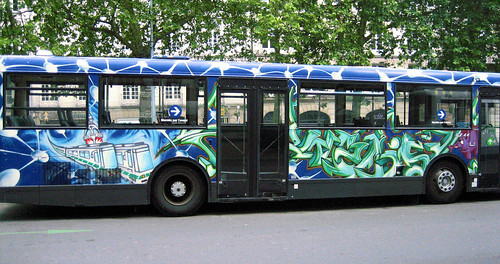bus: (1, 53, 500, 217)
